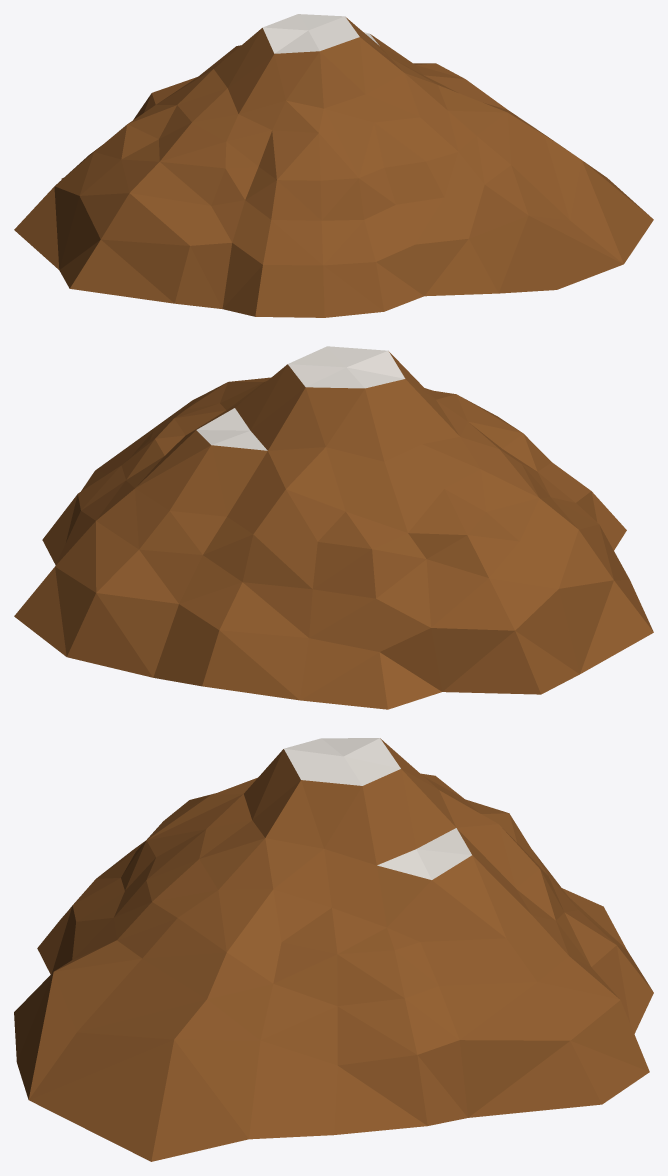
Rendered from snow_relief_4.fbx.
3 renders of one model, top to bottom at view 1: azimuth 30°, elevation 25°; view 2: azimuth 150°, elevation 25°; view 3: azimuth 270°, elevation 25°, orthographic. The views are drawn at different scales.
Parts seen in each view (by area): view 1: Icosphere.057; view 2: Icosphere.057; view 3: Icosphere.057.
Boxes of the visible parts, x1,y1,x2,y2 form: Icosphere.057: (14,14,653,317); Icosphere.057: (14,346,653,709); Icosphere.057: (14,738,653,1161).
Bounding box in the file's own units: 1106 × 408 × 949.
